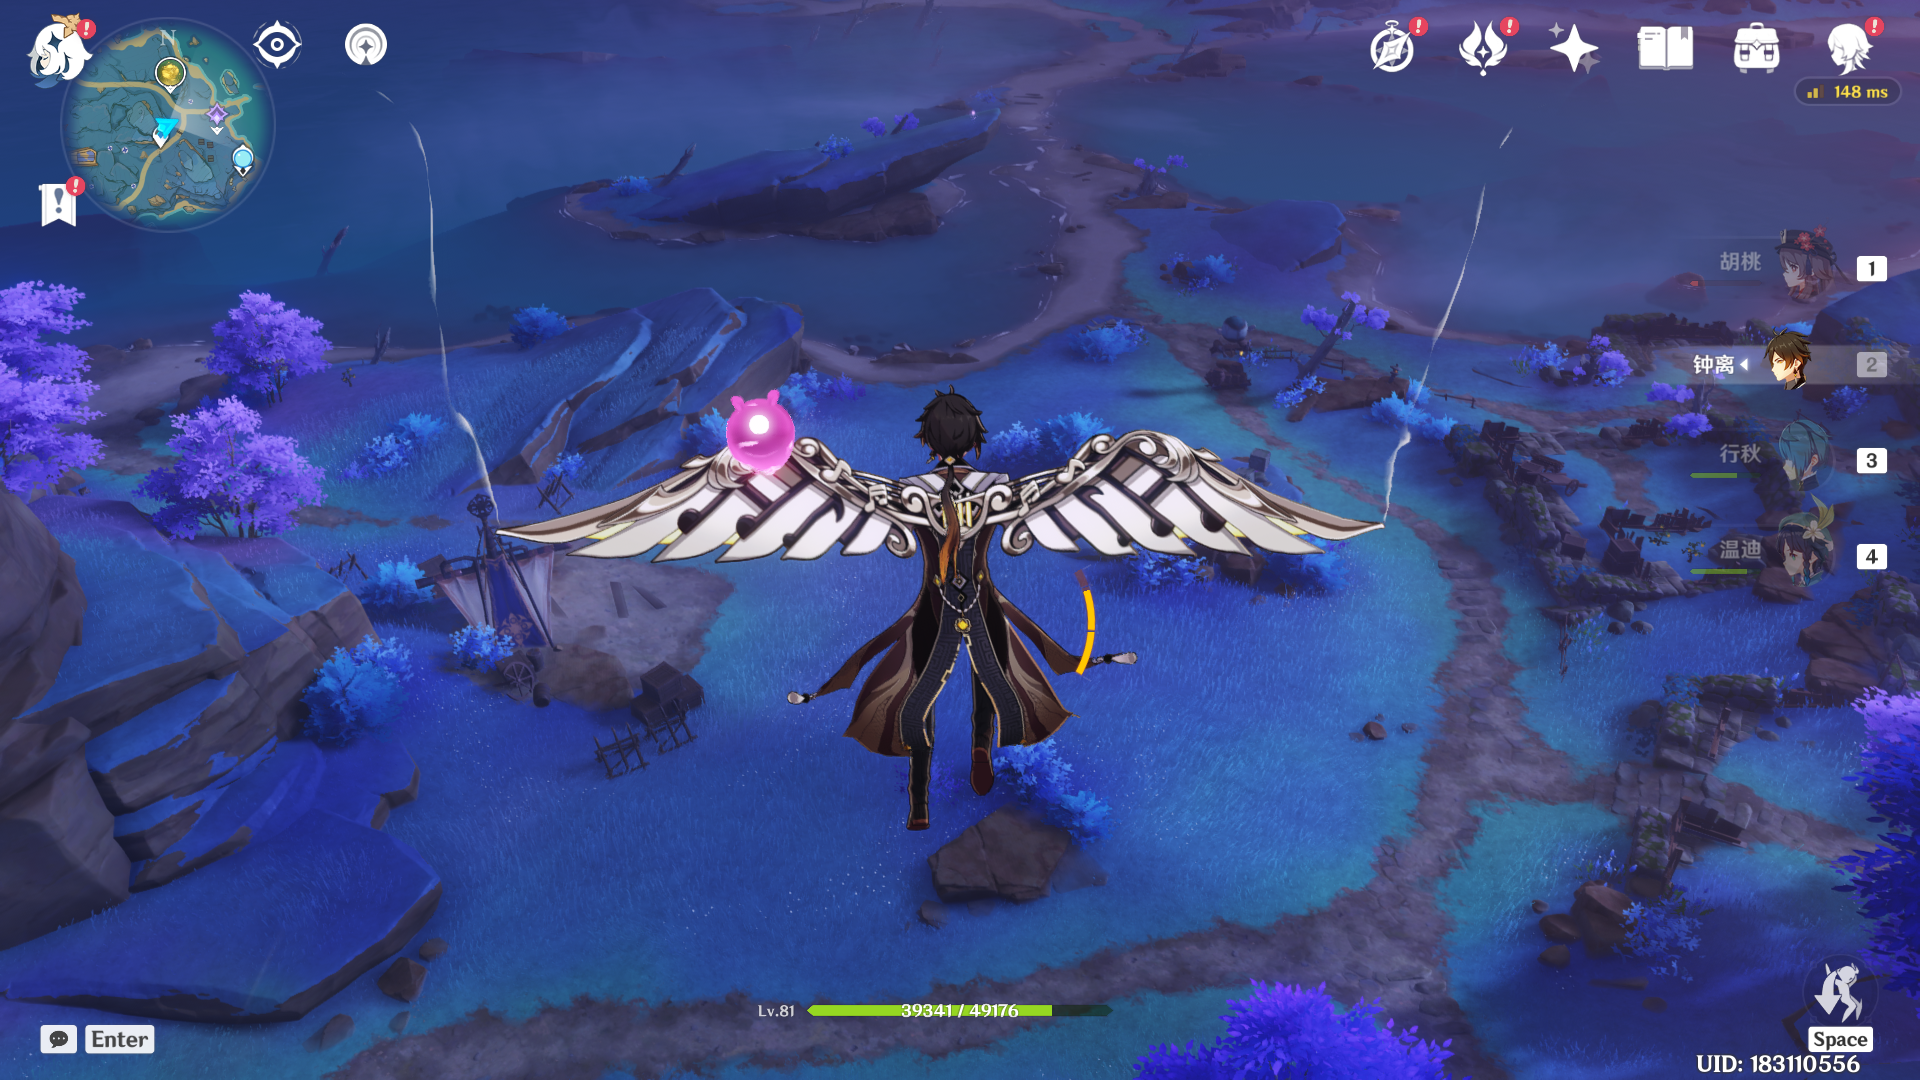character: (682, 320, 1204, 864)
